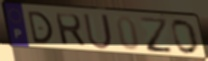0: (115, 15, 140, 52)
D: (26, 10, 55, 45)
O: (171, 18, 201, 56)
R: (53, 12, 88, 48)
U: (82, 12, 115, 51)
Z: (138, 16, 175, 55)
